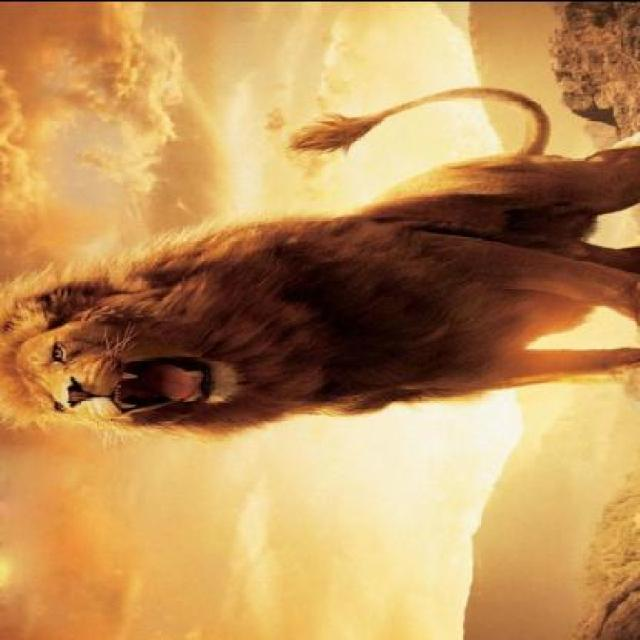Lion: (11, 74, 638, 455)
